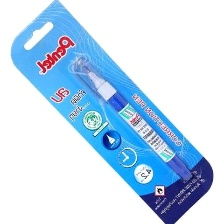book: (6, 0, 214, 224)
correction_fluid: (69, 55, 194, 182)
